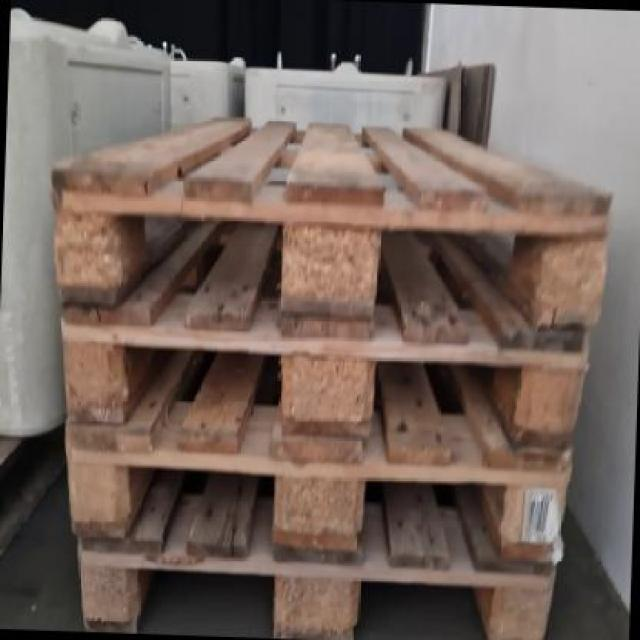block: (282, 194, 380, 321), (46, 165, 130, 304), (279, 333, 382, 437), (266, 462, 374, 561), (539, 204, 613, 328), (59, 547, 146, 640), (265, 566, 374, 640), (57, 319, 132, 424), (59, 445, 142, 539), (514, 346, 586, 454), (497, 468, 570, 570), (488, 569, 560, 640)
front: (44, 162, 615, 330), (56, 305, 586, 468), (61, 418, 580, 562), (65, 534, 571, 640)
